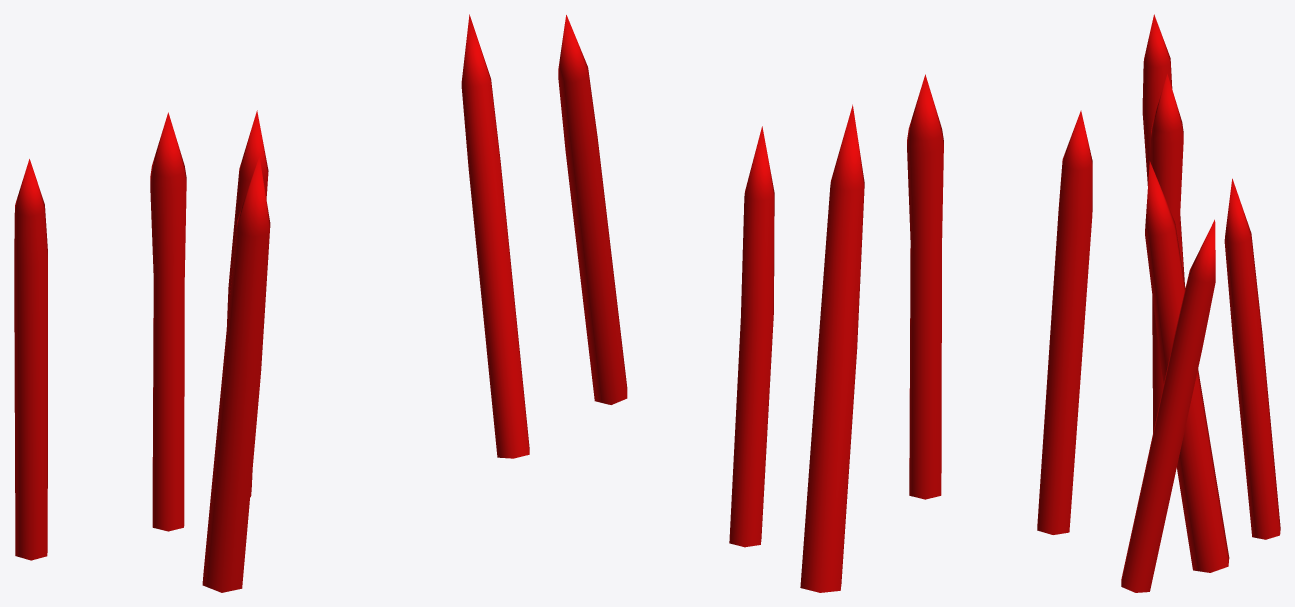
The model's file is Stake_Grp_01_Lod0.fbx.
3 renders of one model, left to right at view 1: azimuth 30°, elevation 25°; view 2: azimuth 150°, elevation 25°; view 3: azimuth 270°, elevation 25°, orthographic. The views are drawn at different scales.
Visible parts, largest first — view 1: Stake_Grp_01_Lod0; view 2: Stake_Grp_01_Lod0; view 3: Stake_Grp_01_Lod0.
Part boxes in pixels (x1,y1,x2,y2): Stake_Grp_01_Lod0: (14,14,529,592); Stake_Grp_01_Lod0: (558,15,1092,592); Stake_Grp_01_Lod0: (1121,14,1280,592).
Size of the model in its own units: 142 by 137 by 43.17.
